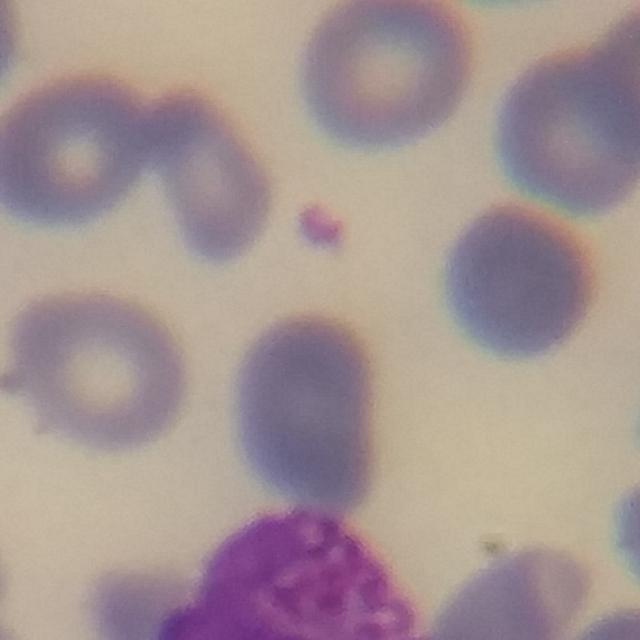Basophil: (163, 498, 436, 640)
Platelets: (294, 200, 357, 264)
RBC: (220, 303, 393, 526), (1, 280, 200, 458), (431, 195, 612, 367), (290, 0, 484, 156), (139, 79, 284, 273), (484, 41, 640, 218), (0, 65, 158, 237), (420, 540, 596, 640), (72, 554, 210, 640), (584, 1, 640, 149), (604, 463, 640, 609), (0, 0, 31, 117), (577, 607, 640, 640), (628, 348, 640, 488)
